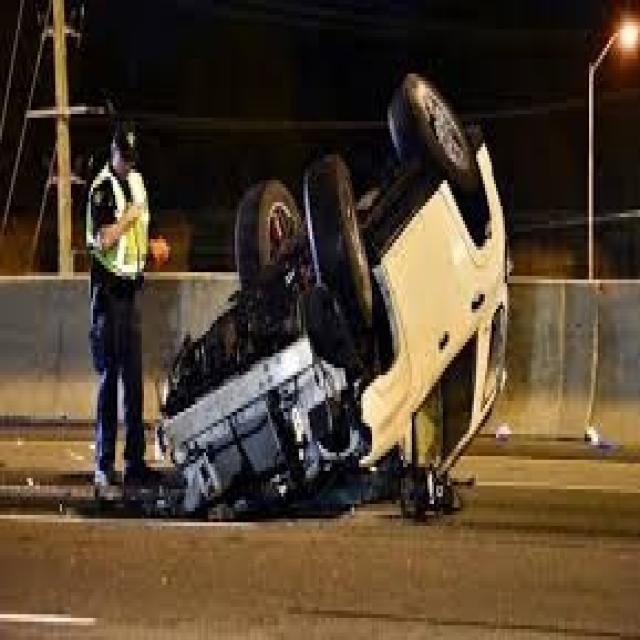accident: (147, 104, 541, 544)
